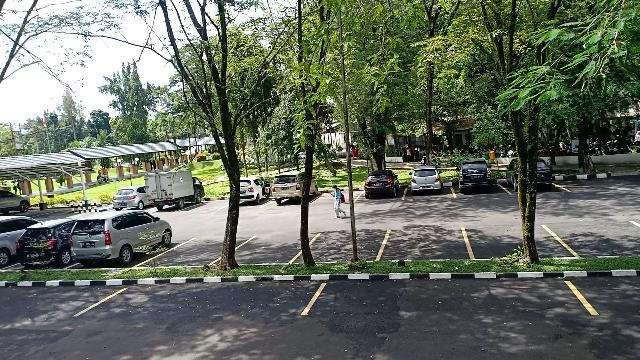empty: (318, 275, 576, 321), (101, 278, 317, 320), (469, 224, 557, 258), (384, 227, 466, 261), (307, 230, 387, 264), (236, 231, 302, 266), (162, 230, 222, 268), (316, 184, 358, 204)
occupied: (70, 224, 170, 268), (13, 226, 71, 270), (453, 166, 503, 196), (268, 175, 316, 205), (405, 169, 453, 198), (360, 175, 404, 202)
